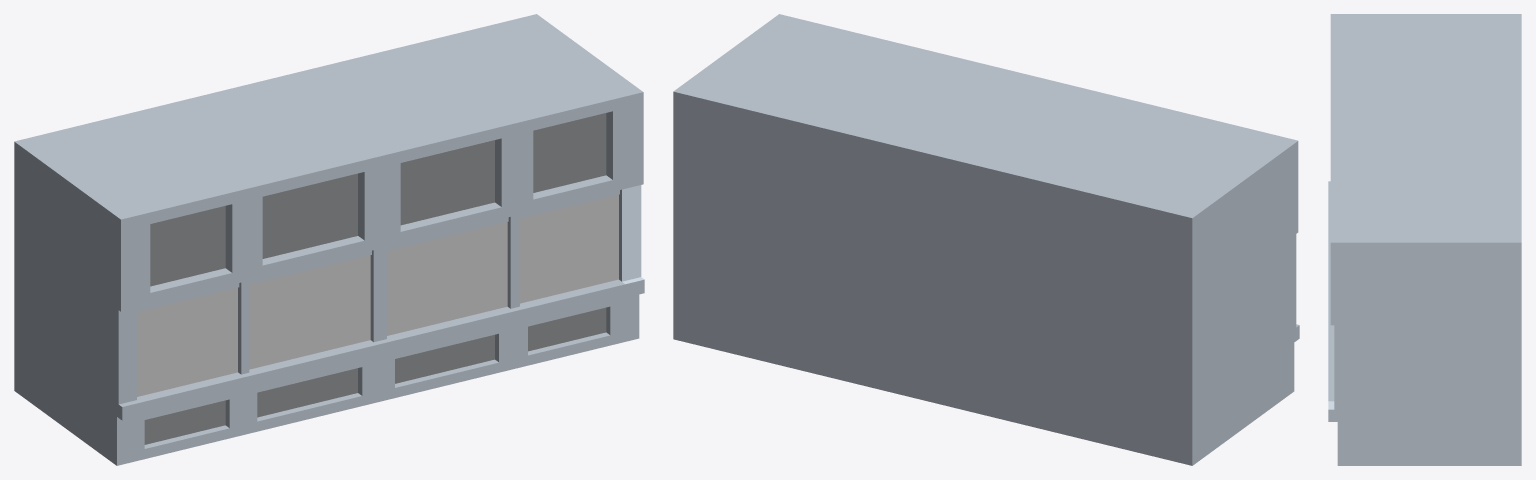
The model's file is dangerRoomControlRoom.fbx.
3 views of the same model, side by side, from view 1: azimuth 30°, elevation 25°; view 2: azimuth 150°, elevation 25°; view 3: azimuth 270°, elevation 25° (orthographic). The views are drawn at different scales.
Visible parts, largest first — view 1: Cube, Cube.1; view 2: Cube; view 3: Cube.
Part boxes in pixels (x1,y1,x2,y2): Cube: (14, 14, 644, 465); Cube.1: (137, 194, 618, 396); Cube: (673, 14, 1299, 465); Cube: (1328, 14, 1521, 465).
Size of the model in its own units: 588 by 268 by 210.
